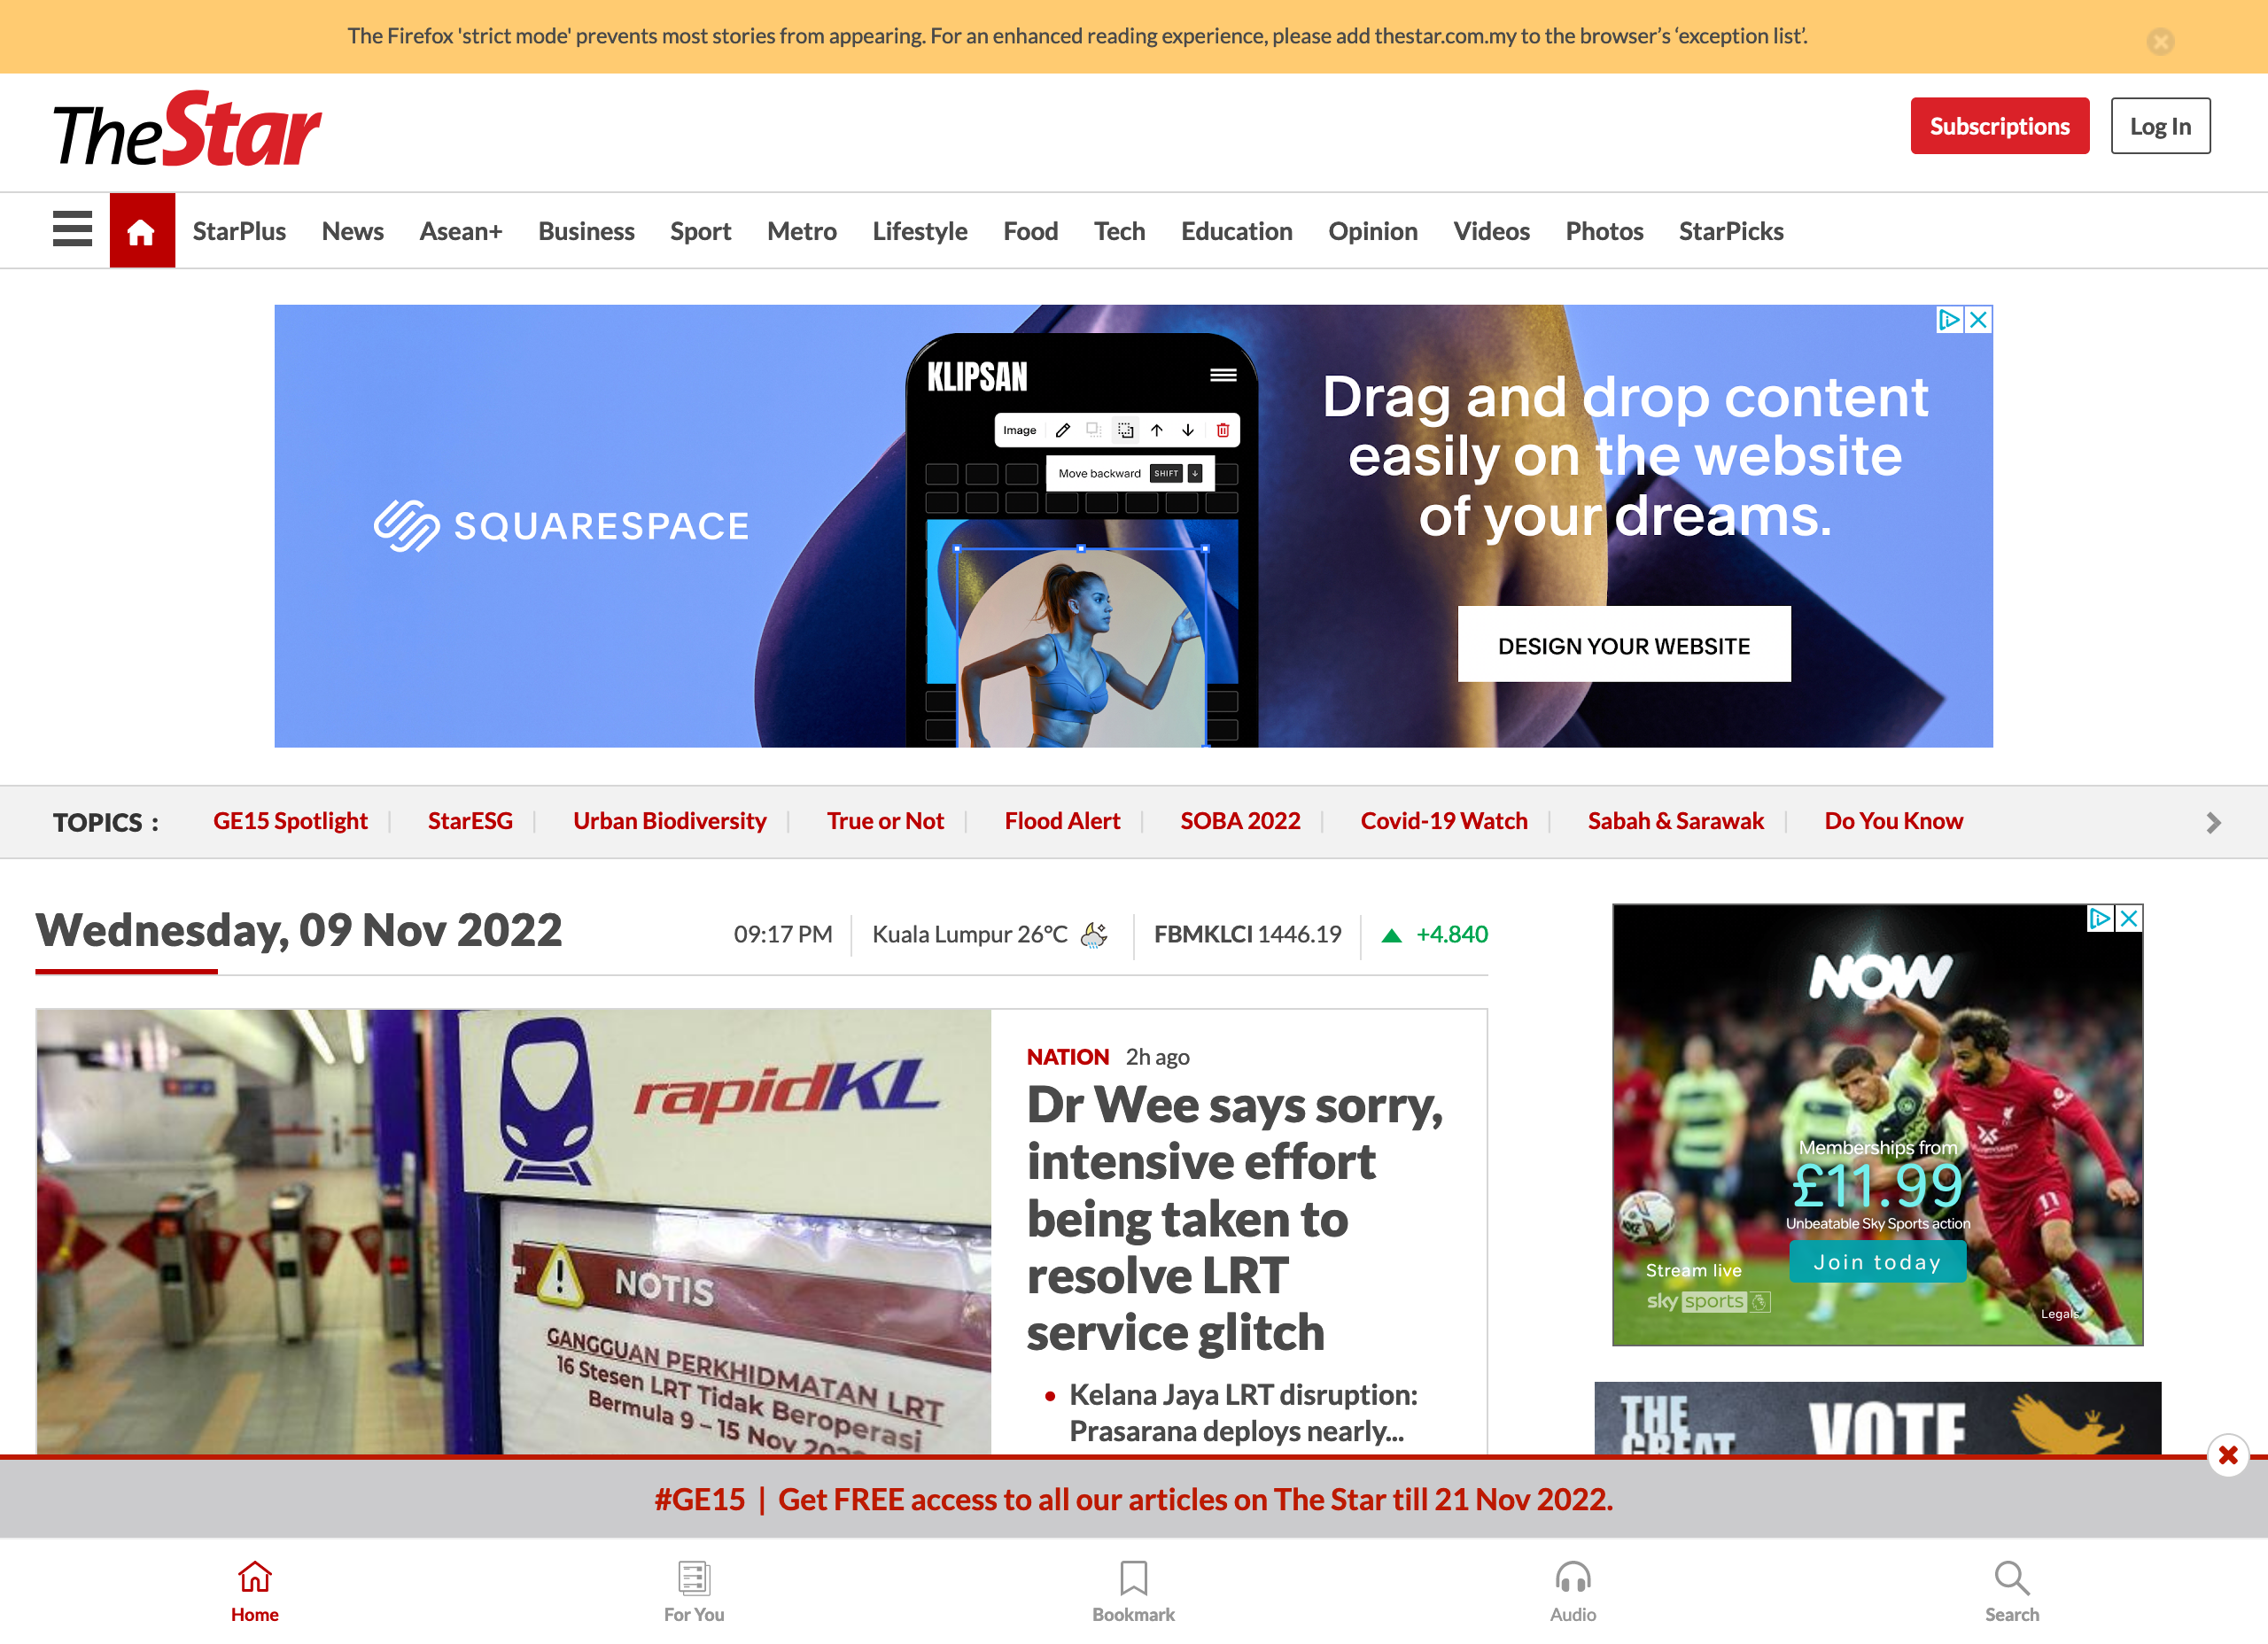Login: (2099, 84, 2227, 167)
